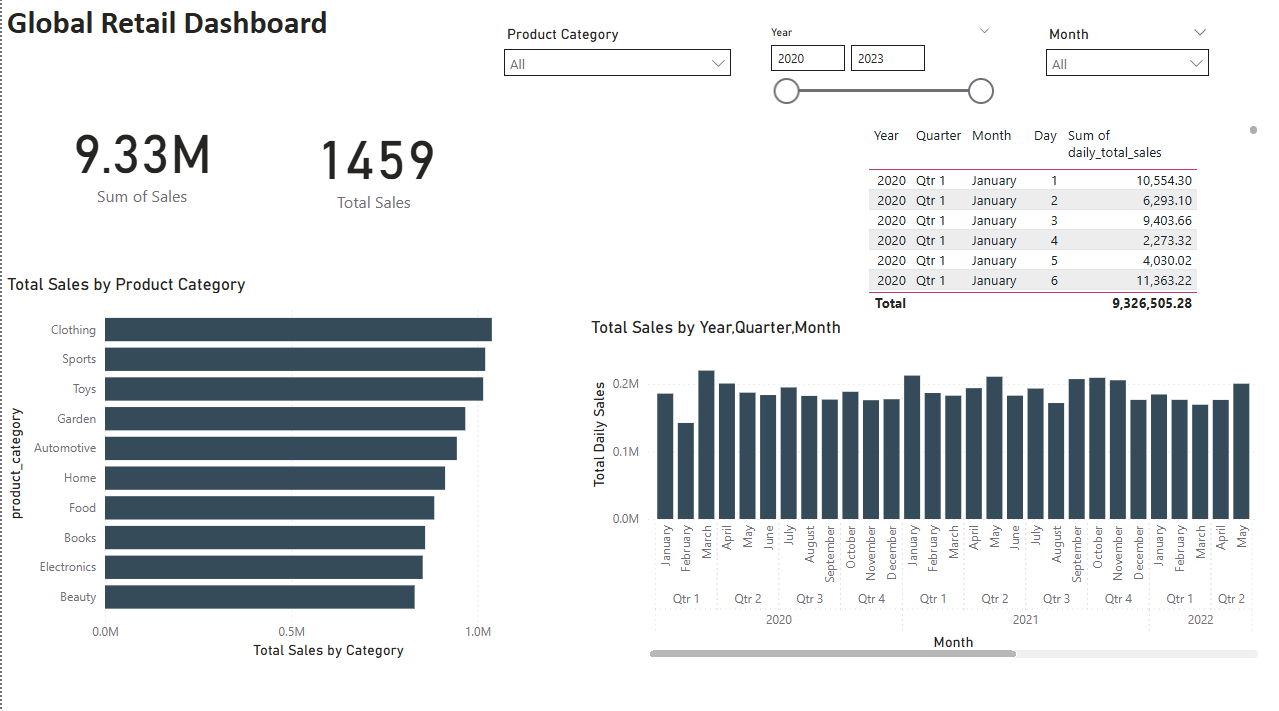

Layout of this report page (visuals, bound fields, positions):
{"tool":"powerbi","page":{"name":"Global Retail Dashboard","canvas":[1280,720],"ordinal":0},"visuals":[{"type":"columnChart","title":"Total Sales by Year,Quarter,Month","fields":{"Category":["gold_daily_sales.transaction_date.Variation.Date Hierarchy.Year","gold_daily_sales.transaction_date.Variation.Date Hierarchy.Quarter","gold_daily_sales.transaction_date.Variation.Date Hierarchy.Month"],"Y":["Sum(gold_daily_sales.daily_total_sales)"]},"box":[583.6,319,677,346.3],"z":0},{"type":"barChart","title":"Total Sales by Product Category","fields":{"Category":["gold_category_sales.product_category"],"Y":["Sum(gold_category_sales.category_total_sales)"]},"box":[0,276.2,569,389.1],"z":1},{"type":"tableEx","fields":{"Values":["gold_daily_sales.transaction_date.Variation.Date Hierarchy.Year","gold_daily_sales.transaction_date.Variation.Date Hierarchy.Quarter","gold_daily_sales.transaction_date.Variation.Date Hierarchy.Month","gold_daily_sales.transaction_date.Variation.Date Hierarchy.Day","Sum(gold_daily_sales.daily_total_sales)"]},"box":[860.8,121.6,399.8,197.4],"z":2},{"type":"card","fields":{"Values":["Sum(gold_daily_sales.daily_total_sales)"]},"box":[12.6,95.3,254.8,127.4],"z":3},{"type":"slicer","fields":{"Values":["gold_daily_sales.transaction_date.Variation.Date Hierarchy.Year"]},"box":[755.7,23.3,244.1,103.1],"z":4},{"type":"textbox","box":[0,0,369.6,77.8],"z":5},{"type":"slicer","fields":{"Values":["gold_daily_sales.transaction_date.Variation.Date Hierarchy.Month"]},"box":[1033.9,23.3,182.9,108],"z":6},{"type":"slicer","fields":{"Values":["gold_category_sales.product_category"]},"box":[492.2,23.3,247.1,98.2],"z":7},{"type":"card","fields":{"Values":["CountNonNull(gold_daily_sales.daily_total_sales)"]},"box":[255.8,95.3,236.4,140.1],"z":8}]}

Visuals, with their boxes in screenshot pixels (x1, y1, x2, y2), scaled from the page's 1280x720 canvas onto the 1279x711 screenshot:
"Total Sales by Year,Quarter,Month" columnChart: <region>583, 315, 1260, 657</region>
"Total Sales by Product Category" barChart: <region>0, 273, 569, 657</region>
tableEx - gold_daily_sales.transaction_date.Variation.Date Hierarchy.Year x gold_daily_sales.transaction_date.Variation.Date Hierarchy.Quarter: <region>860, 120, 1260, 315</region>
card - Sum(gold_daily_sales.daily_total_sales): <region>13, 94, 267, 220</region>
slicer - gold_daily_sales.transaction_date.Variation.Date Hierarchy.Year: <region>755, 23, 999, 125</region>
textbox: <region>0, 0, 369, 77</region>
slicer - gold_daily_sales.transaction_date.Variation.Date Hierarchy.Month: <region>1033, 23, 1216, 130</region>
slicer - gold_category_sales.product_category: <region>492, 23, 739, 120</region>
card - CountNonNull(gold_daily_sales.daily_total_sales): <region>256, 94, 492, 232</region>
